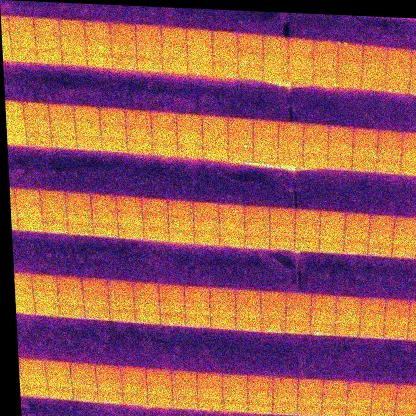Diode: (310, 322, 336, 336)
Hotspot: (338, 42, 364, 63), (312, 40, 338, 61), (237, 49, 264, 67), (228, 132, 254, 149), (67, 220, 94, 236), (51, 133, 77, 149), (60, 303, 85, 319), (185, 313, 211, 328), (367, 242, 393, 257), (343, 240, 369, 255), (26, 131, 52, 146), (137, 58, 163, 73), (385, 77, 409, 93), (245, 234, 270, 249), (228, 147, 253, 162), (97, 390, 123, 404), (312, 73, 338, 87), (286, 321, 311, 335), (261, 319, 286, 333), (212, 65, 238, 78), (188, 64, 214, 77), (112, 57, 138, 70), (321, 405, 347, 416), (346, 406, 371, 416), (370, 408, 395, 416)
Normal: (161, 26, 188, 47), (135, 23, 162, 44), (288, 39, 314, 60), (162, 43, 189, 63), (384, 298, 412, 317), (361, 45, 389, 64), (85, 35, 112, 54), (262, 37, 289, 56), (110, 23, 137, 42), (64, 191, 92, 209), (10, 30, 36, 49), (35, 31, 61, 50), (187, 29, 213, 48), (361, 298, 388, 316), (48, 103, 75, 121), (110, 41, 138, 58), (353, 127, 379, 145), (253, 119, 279, 137), (159, 296, 186, 313), (66, 205, 93, 222), (115, 196, 142, 213), (151, 139, 178, 156), (252, 134, 279, 151), (328, 126, 355, 143), (11, 46, 38, 63), (61, 49, 88, 66), (360, 61, 387, 78), (262, 55, 289, 72), (136, 43, 163, 60), (236, 34, 263, 51), (8, 16, 35, 33), (287, 57, 315, 73), (185, 298, 211, 315), (209, 287, 235, 304), (32, 274, 58, 291), (150, 110, 176, 127), (99, 107, 125, 124), (36, 48, 62, 65), (212, 49, 238, 66), (187, 47, 213, 64), (386, 49, 412, 66), (211, 32, 237, 49), (85, 20, 111, 37), (160, 311, 187, 327), (133, 281, 160, 297), (82, 278, 109, 294), (107, 278, 134, 294), (244, 220, 271, 236), (15, 202, 42, 218), (269, 207, 296, 223), (167, 201, 194, 217), (89, 194, 116, 210), (126, 137, 153, 153), (202, 130, 229, 146), (124, 109, 151, 125), (74, 107, 101, 123), (86, 52, 113, 68), (58, 19, 85, 35), (24, 102, 49, 119), (361, 75, 386, 92), (61, 33, 86, 50), (318, 225, 346, 240), (336, 296, 362, 312), (286, 292, 312, 308), (261, 291, 287, 307), (194, 230, 220, 246), (168, 228, 194, 244), (270, 221, 296, 237), (41, 204, 67, 220), (369, 214, 395, 230), (344, 212, 370, 228), (244, 205, 270, 221), (277, 150, 303, 166), (177, 142, 203, 158), (278, 135, 304, 151), (50, 118, 76, 134), (377, 131, 403, 147), (278, 122, 304, 138), (227, 117, 253, 133), (34, 18, 60, 34), (322, 378, 348, 394), (358, 323, 385, 338), (134, 308, 161, 323), (84, 305, 111, 320), (108, 292, 135, 307), (143, 227, 170, 242), (93, 222, 120, 237), (222, 398, 249, 413), (218, 218, 245, 233), (116, 211, 143, 226), (319, 211, 346, 226), (192, 203, 219, 218), (140, 198, 167, 213), (328, 140, 355, 155), (96, 377, 123, 392), (312, 60, 339, 75), (247, 374, 274, 389), (69, 362, 96, 377), (19, 360, 46, 375), (286, 307, 311, 323), (295, 209, 320, 225), (327, 154, 352, 170), (303, 152, 328, 168), (253, 149, 278, 165), (203, 144, 228, 160), (177, 128, 202, 144), (152, 125, 177, 141), (335, 322, 361, 337), (311, 308, 337, 323), (134, 295, 160, 310), (311, 295, 337, 310), (235, 290, 261, 305), (269, 236, 295, 251), (219, 232, 245, 247), (118, 225, 144, 240), (42, 219, 68, 234), (344, 227, 370, 242), (294, 224, 320, 239), (142, 212, 168, 227), (218, 204, 244, 219), (40, 190, 66, 205), (352, 156, 378, 171), (101, 136, 127, 151), (352, 143, 378, 158), (303, 138, 329, 153), (75, 122, 101, 137), (303, 125, 329, 140), (202, 117, 228, 132), (222, 386, 248, 401), (385, 64, 411, 79), (159, 284, 186, 298), (75, 136, 102, 150), (125, 125, 152, 139), (176, 114, 203, 128), (121, 380, 148, 394), (237, 66, 264, 80), (336, 61, 363, 75), (347, 382, 374, 396), (221, 374, 248, 388), (44, 362, 71, 376), (110, 306, 135, 321), (57, 277, 82, 292), (391, 244, 416, 259), (18, 217, 43, 232), (391, 231, 416, 246), (101, 122, 126, 137), (322, 392, 347, 407), (337, 74, 362, 89), (393, 217, 416, 233), (383, 325, 409, 339), (260, 305, 286, 319), (247, 400, 273, 414), (194, 217, 220, 231), (168, 215, 194, 229), (147, 394, 173, 408), (14, 189, 40, 203), (47, 386, 73, 400), (23, 384, 49, 398), (25, 119, 51, 133), (197, 385, 223, 399), (71, 376, 97, 390), (298, 379, 324, 393), (273, 377, 299, 391), (196, 372, 222, 386), (171, 371, 197, 385), (377, 158, 401, 173), (334, 311, 361, 324), (359, 312, 386, 325), (235, 304, 262, 317), (83, 292, 110, 305), (57, 291, 84, 304), (272, 390, 299, 403), (120, 367, 147, 380), (94, 366, 121, 379), (319, 240, 344, 254), (123, 392, 148, 406), (377, 145, 402, 159), (371, 396, 396, 410), (172, 383, 197, 397), (162, 60, 187, 74), (373, 383, 398, 397), (210, 316, 236, 329), (34, 302, 60, 315), (184, 286, 210, 299), (272, 402, 298, 415), (197, 397, 223, 410), (172, 396, 198, 409), (92, 210, 118, 223), (347, 394, 373, 407), (146, 381, 172, 394), (287, 71, 313, 84), (262, 69, 288, 82), (145, 370, 171, 383), (369, 229, 393, 243), (236, 316, 261, 329), (297, 403, 322, 416), (295, 238, 320, 251), (73, 388, 98, 401), (297, 391, 322, 404), (247, 388, 272, 401), (383, 315, 410, 327), (45, 375, 72, 387), (210, 304, 236, 316), (21, 374, 47, 386), (34, 291, 59, 303), (395, 396, 416, 410), (397, 383, 416, 396), (394, 409, 416, 416)
